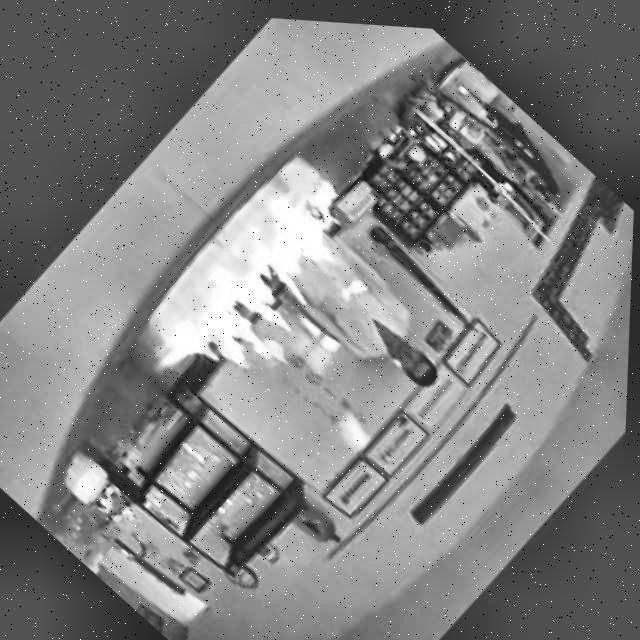Smoke: (151, 156, 404, 436)
